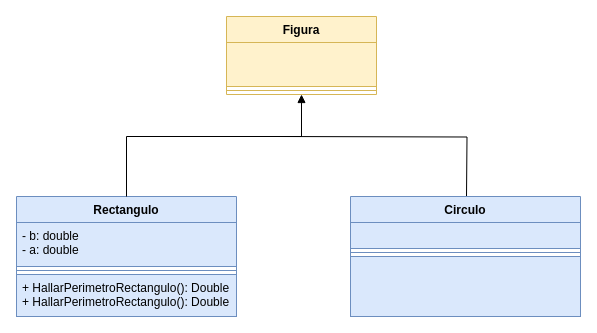
This 597x333 diagram has some shape labels left out. Here are the shapes that lost their labels. From the top down, the centre of each, then its label:
At (301,64): "#perimetro: double #area: double".
At (465,235): "- r: double".
At (465,286): "+ HallarPerimetroCirculo(): Double +HallarAreaCirculo(): Double".
